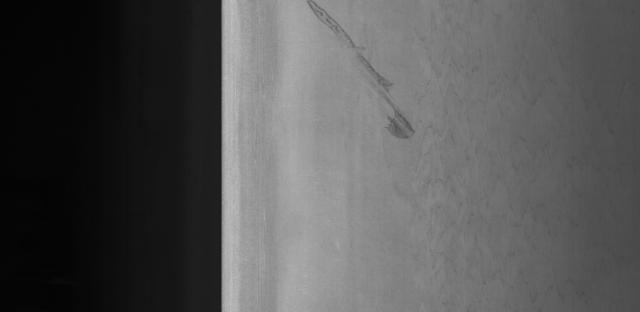silk_spot: (428, 28, 610, 300)
water_spot: (287, 1, 428, 144)
